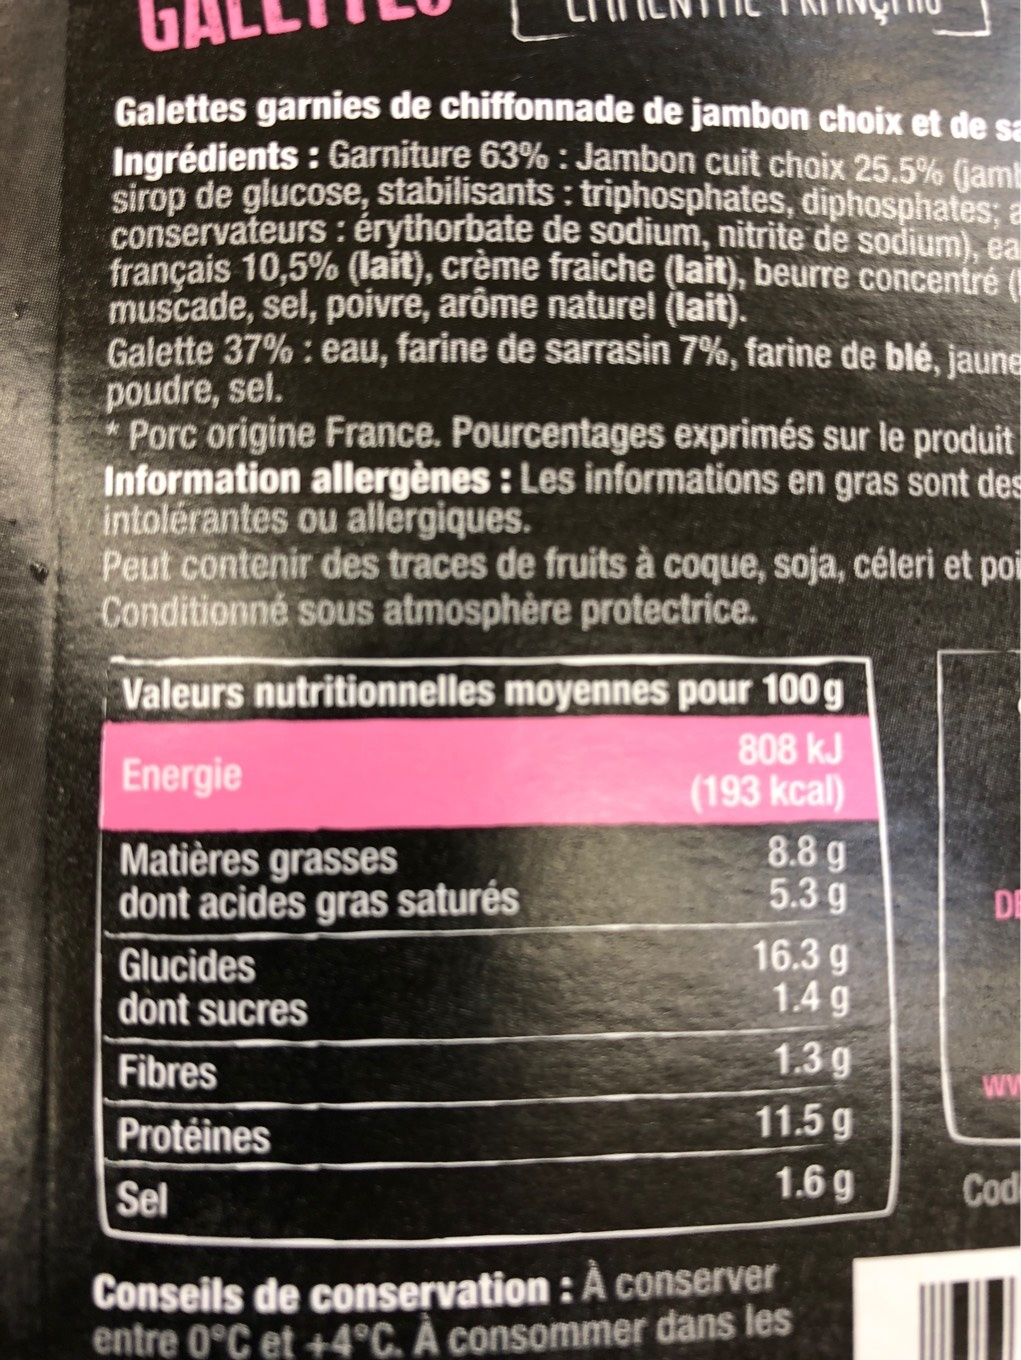column: (116, 746, 526, 1239), (691, 733, 859, 1214)
table: (86, 656, 914, 1251)
